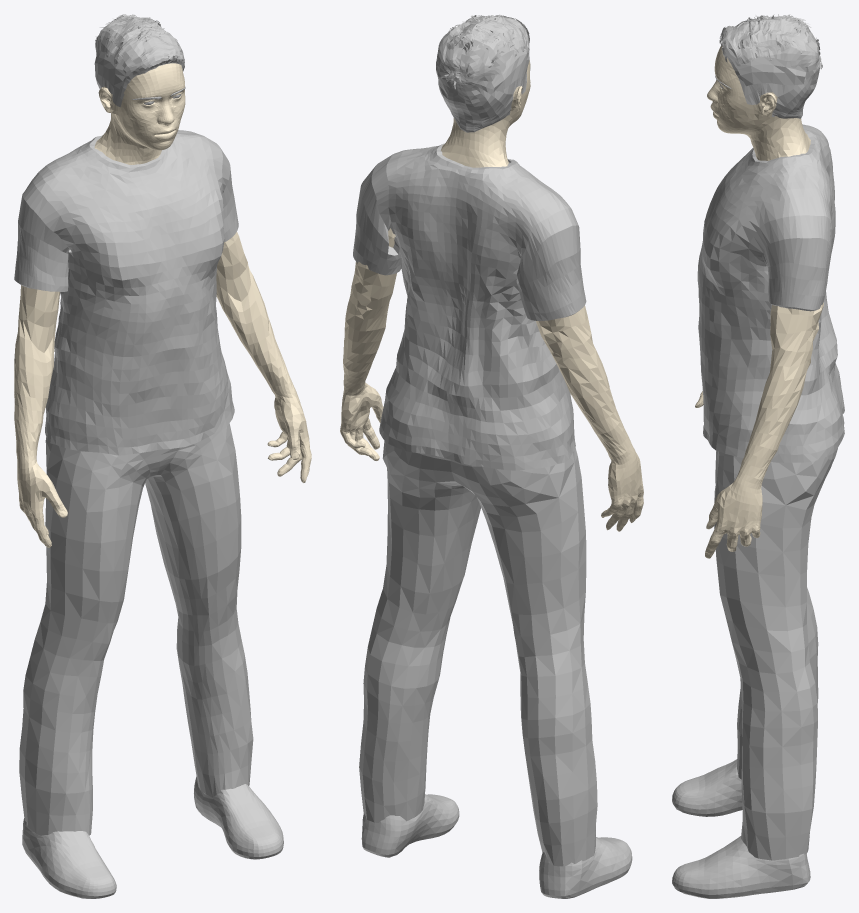
3 renders of one model, left to right at view 1: azimuth 30°, elevation 25°; view 2: azimuth 150°, elevation 25°; view 3: azimuth 270°, elevation 25°, orthographic. The views are drawn at different scales.
Parts seen in each view (by area): view 1: male_casualsuit06.obj, male_muscle_13290.obj, shoes05.obj, short01.obj; view 2: male_casualsuit06.obj, male_muscle_13290.obj, short01.obj, shoes05.obj; view 3: male_casualsuit06.obj, male_muscle_13290.obj, shoes05.obj, short01.obj.
Boxes of the visible parts, x1,y1,x2,y2 form: male_casualsuit06.obj: [14, 130, 253, 835]; male_muscle_13290.obj: [14, 63, 311, 547]; shoes05.obj: [22, 776, 283, 898]; short01.obj: [94, 14, 184, 107]; male_casualsuit06.obj: [353, 143, 597, 866]; male_muscle_13290.obj: [340, 60, 643, 531]; short01.obj: [436, 14, 529, 132]; shoes05.obj: [361, 794, 632, 898]; male_casualsuit06.obj: [697, 124, 844, 860]; male_muscle_13290.obj: [695, 46, 823, 558]; shoes05.obj: [672, 759, 810, 898]; short01.obj: [719, 14, 822, 118].
Size of the model in its own units: 63.71 by 178 by 33.64.
